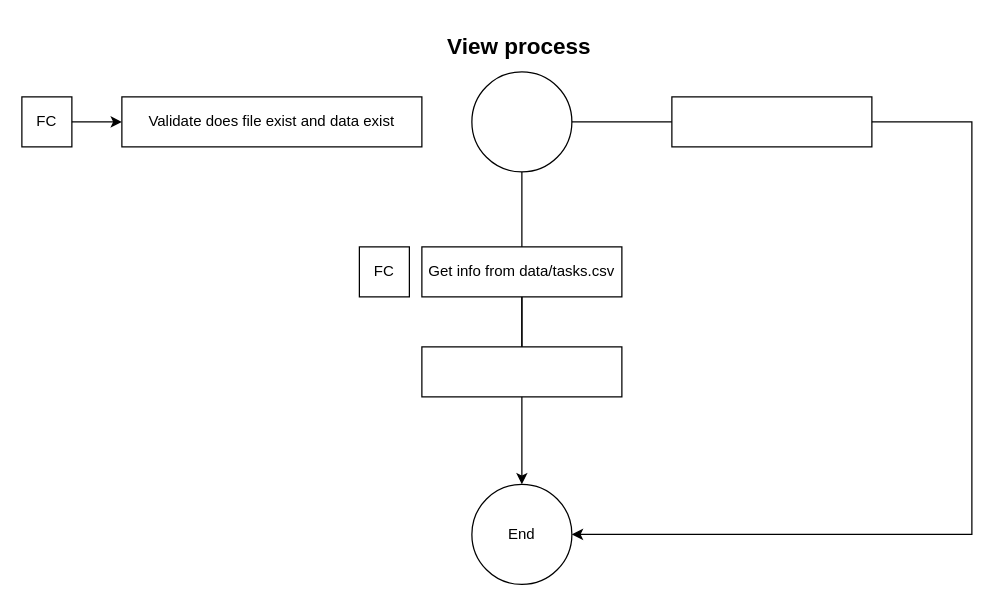
Some shapes in this 1004 by 606 pixel diagram are drawn without their labels. Here are the shapes that lost their labels. From the top down, the centre of each, then its label:
At [521,121]: "Start".
At [771,121]: "Ctrl + C / Ctrl + Z Enter".
At [521,371]: "Call library tabulate".
